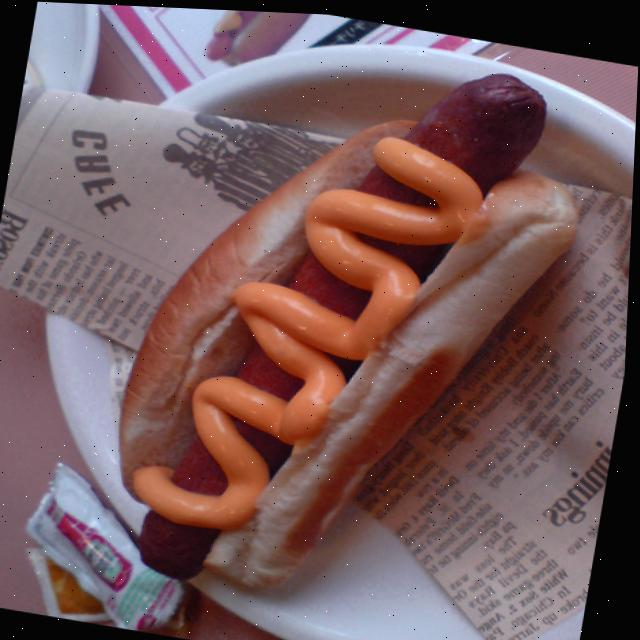汉堡快餐: (89, 20, 608, 618)
